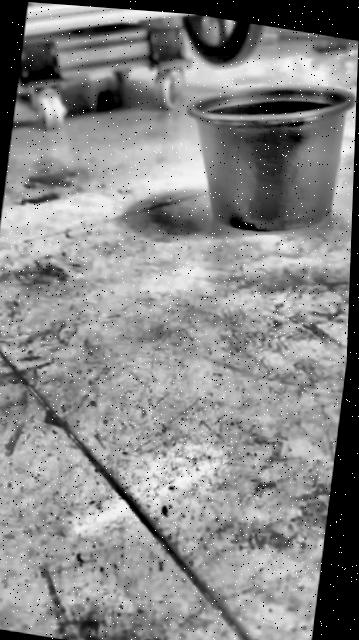pot: (173, 65, 355, 244)
